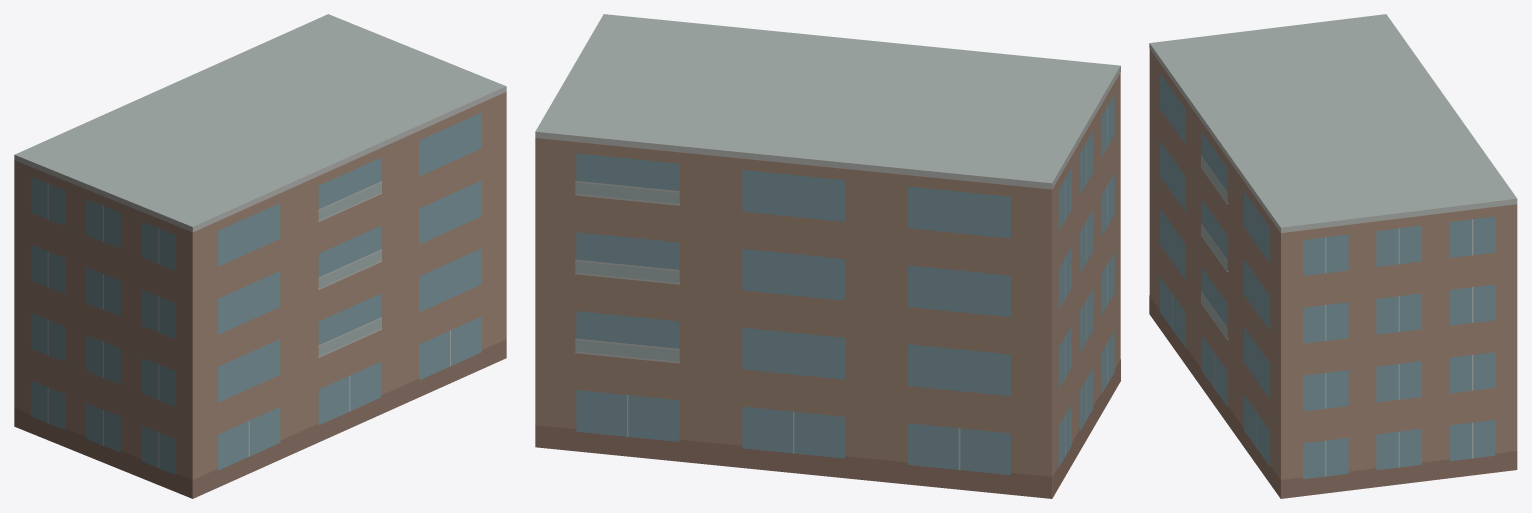
Rendered from survey-upis-33011334.glb.
The picture shows the model from 3 angles, left to right: view 1: azimuth 30°, elevation 25°; view 2: azimuth 150°, elevation 25°; view 3: azimuth 270°, elevation 25°; orthographic projection. The views are drawn at different scales.
Visible parts, largest first — view 1: survey-upis-33011334.tmp; view 2: survey-upis-33011334.tmp; view 3: survey-upis-33011334.tmp.
Boxes of the visible parts, x1,y1,x2,y2 form: survey-upis-33011334.tmp: (14, 14, 506, 498); survey-upis-33011334.tmp: (535, 14, 1120, 498); survey-upis-33011334.tmp: (1149, 14, 1517, 498).
Size of the model in its own units: 20.81 by 12.3 by 15.14.
